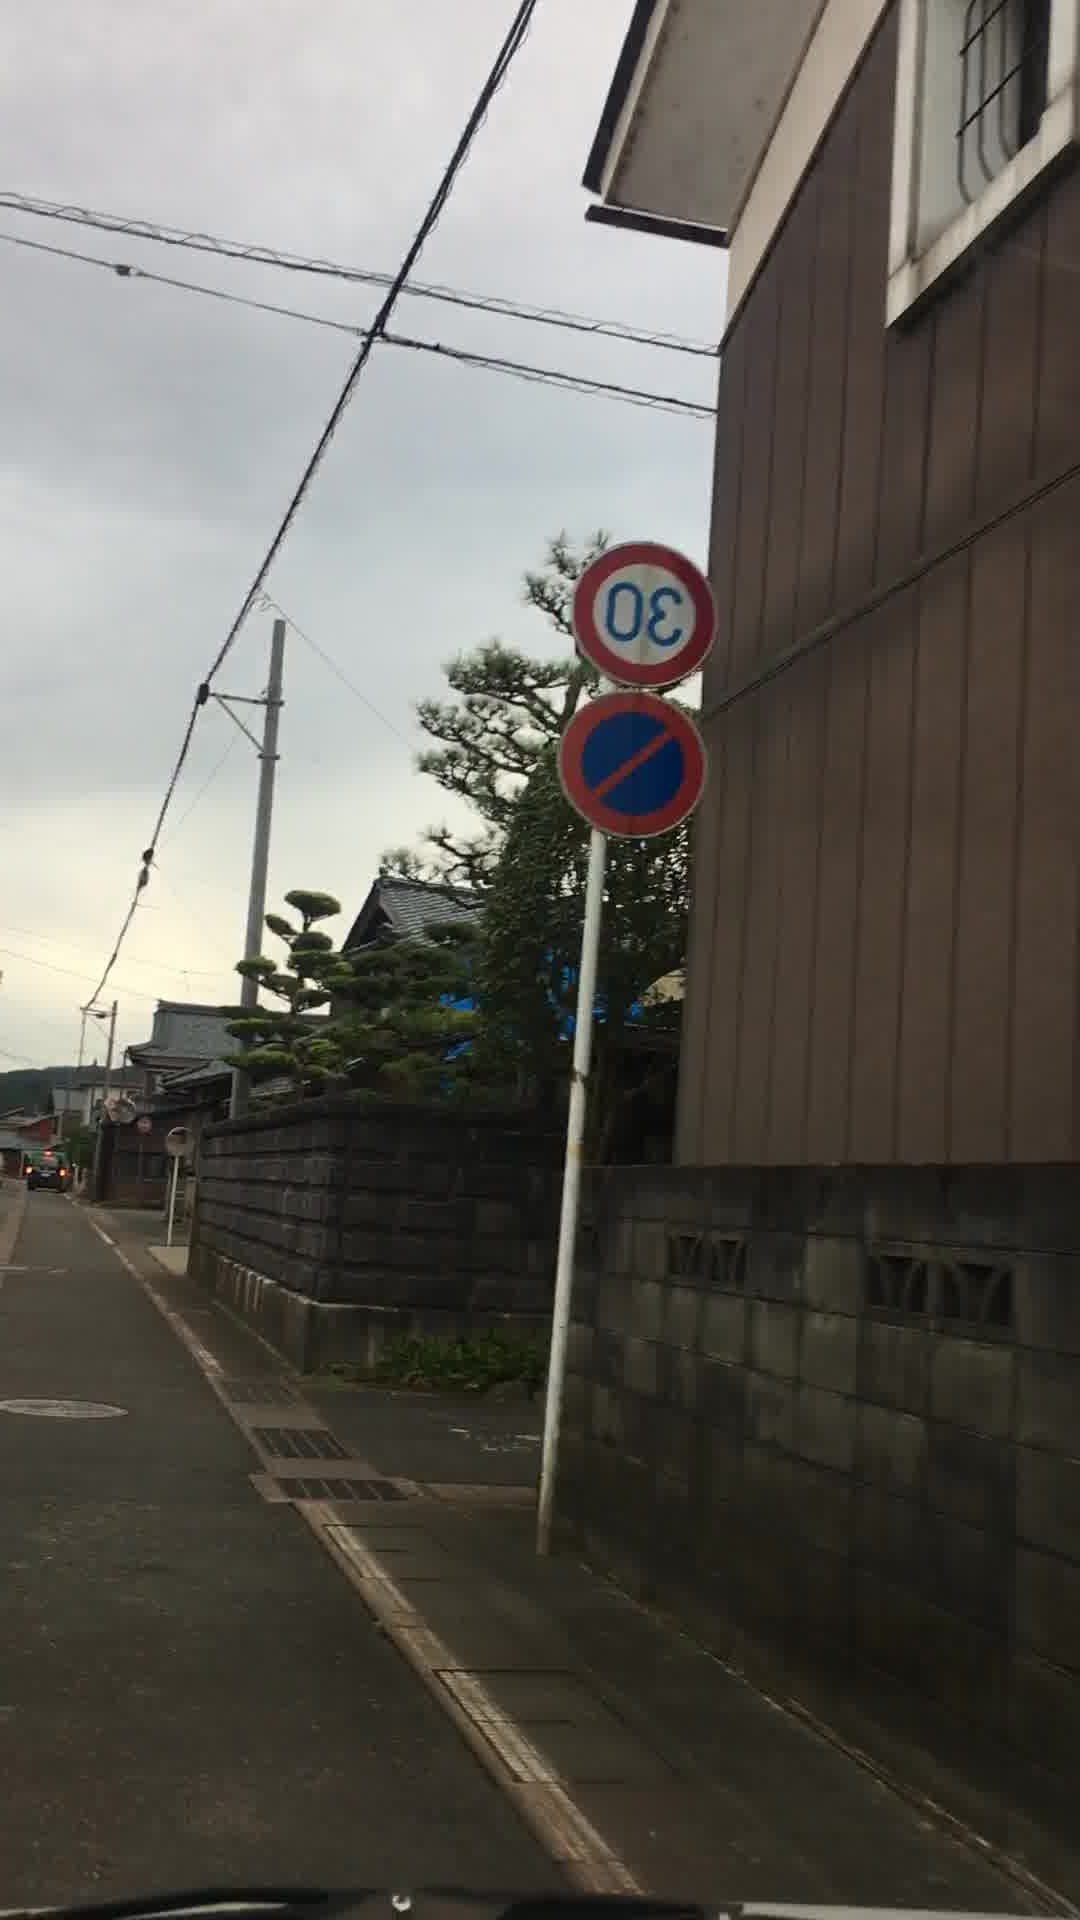Prohibition_sign: (562, 696, 724, 847)
Speed_sign: (576, 535, 716, 692)
